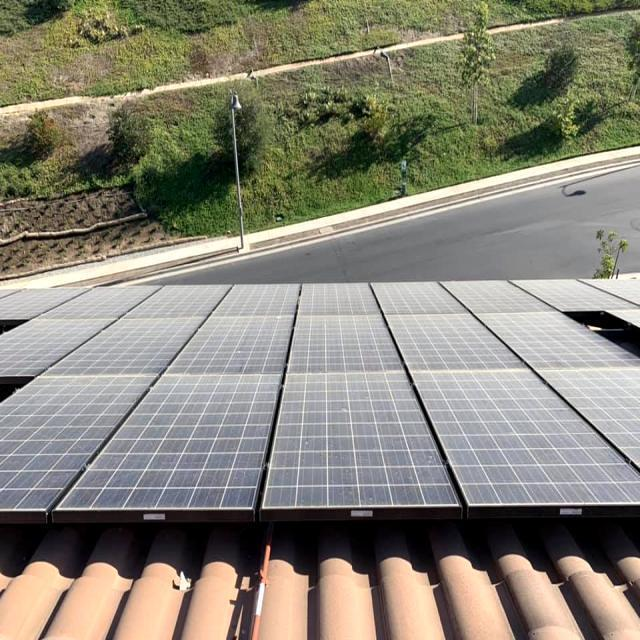soiled: (12, 279, 639, 510)
